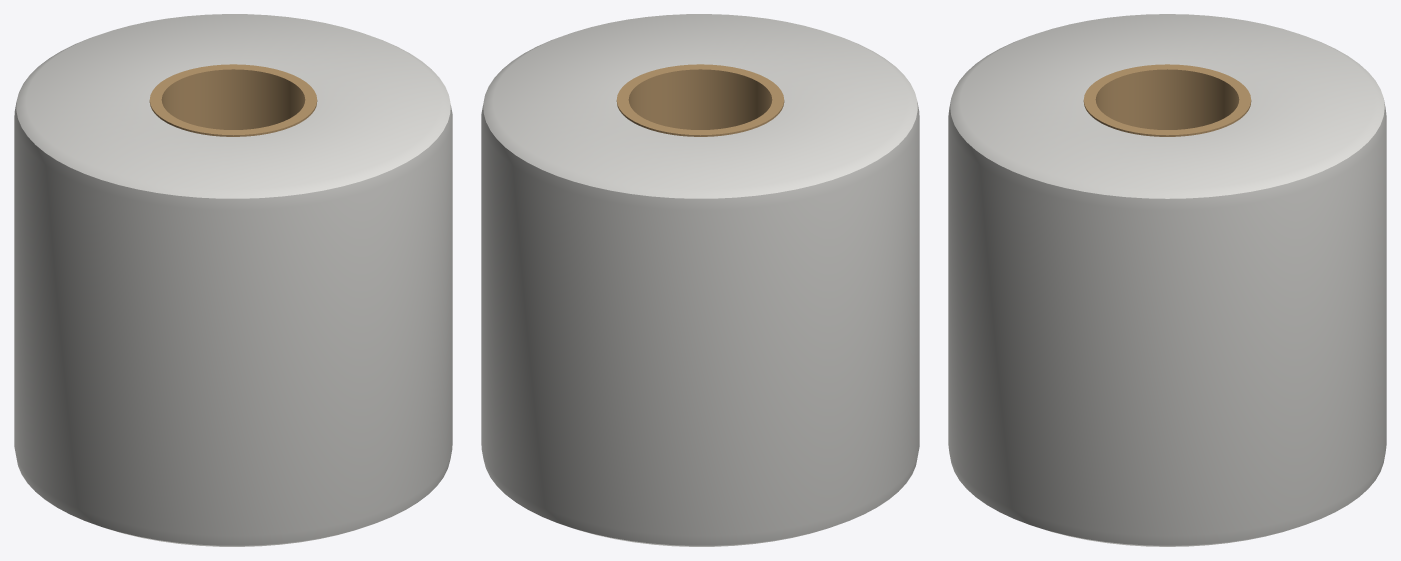
The model's file is item-toilet-roll.glb.
3 renders of one model, left to right at view 1: azimuth 30°, elevation 25°; view 2: azimuth 150°, elevation 25°; view 3: azimuth 270°, elevation 25°, orthographic.
Visible parts, largest first — view 1: item-toilet-roll; view 2: item-toilet-roll; view 3: item-toilet-roll.
Part boxes in pixels (box(x1,y1,x2,y2)): item-toilet-roll: box(14, 14, 452, 546); item-toilet-roll: box(481, 14, 919, 546); item-toilet-roll: box(948, 14, 1386, 546).
Size of the model in its own units: 0.11 by 0.1 by 0.11.
